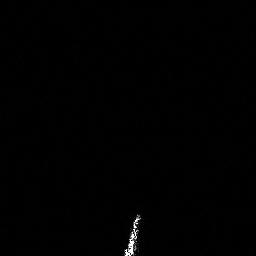ship: (123, 211, 141, 256)
